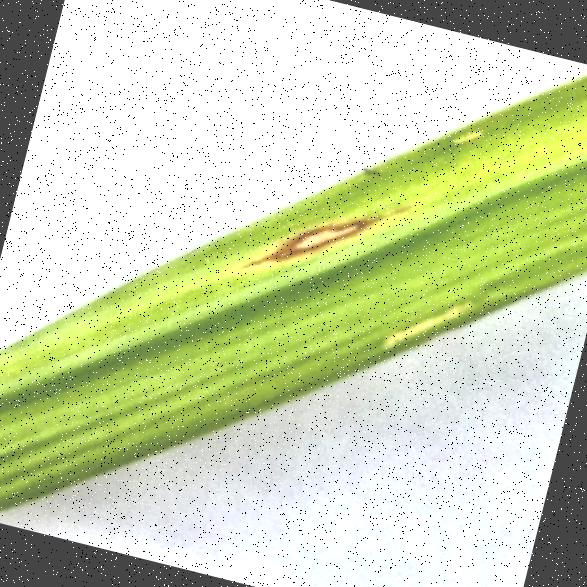Leaf_smut: (231, 158, 433, 353)
